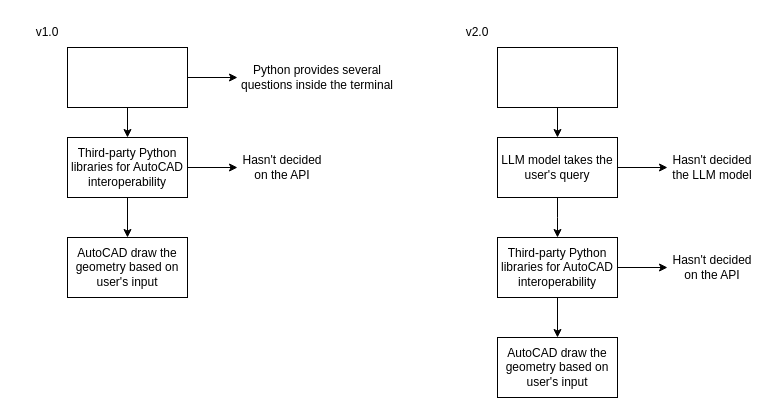
Some shapes in this 774 by 415 pixel diagram are drawn without their labels. Here are the shapes that lost their labels. From the top down, the centre of each, then its label:
At (x=127, y=77): "User writes input inside the terminal".
At (x=557, y=77): "User writes query inside the terminal".
